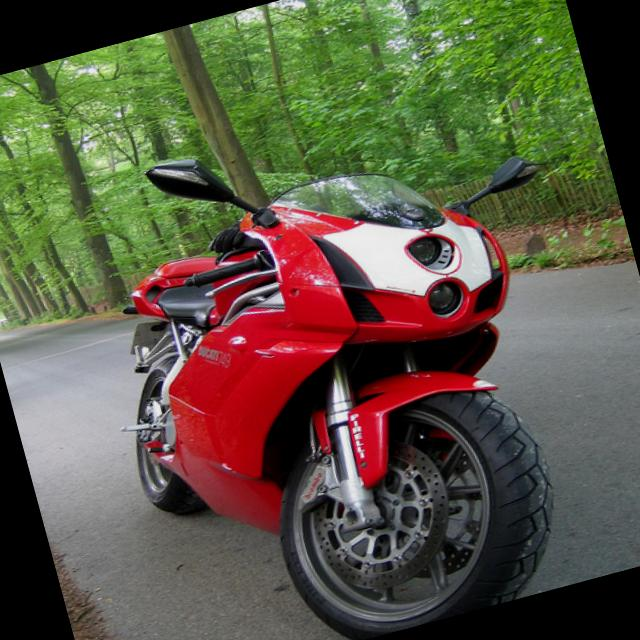Vehicle: (53, 69, 640, 640)
